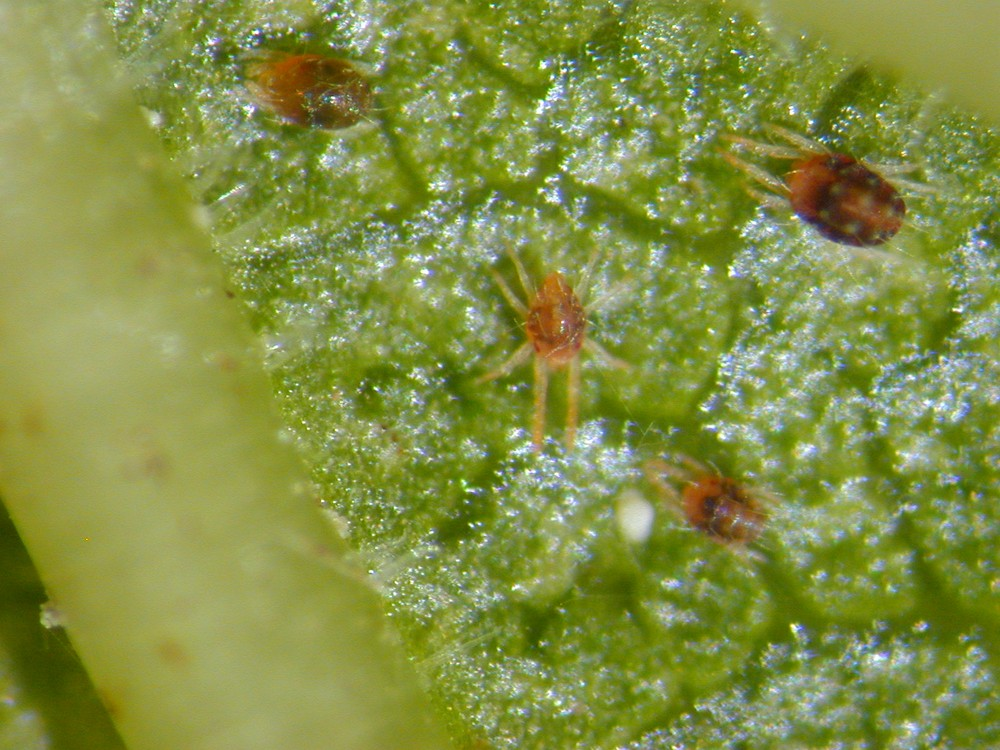Aracnido Rojo: (708, 96, 969, 285), (454, 234, 652, 451), (215, 31, 419, 160), (637, 431, 808, 573)
